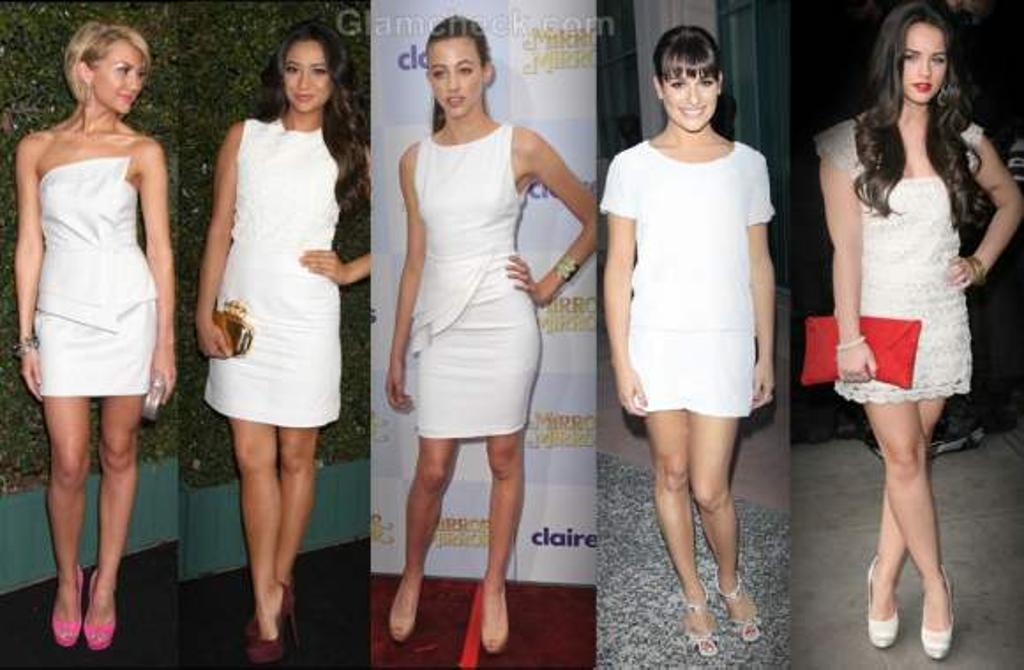face: (661, 61, 719, 131), (428, 45, 483, 116), (896, 27, 947, 102), (93, 48, 146, 112), (283, 46, 332, 112)
